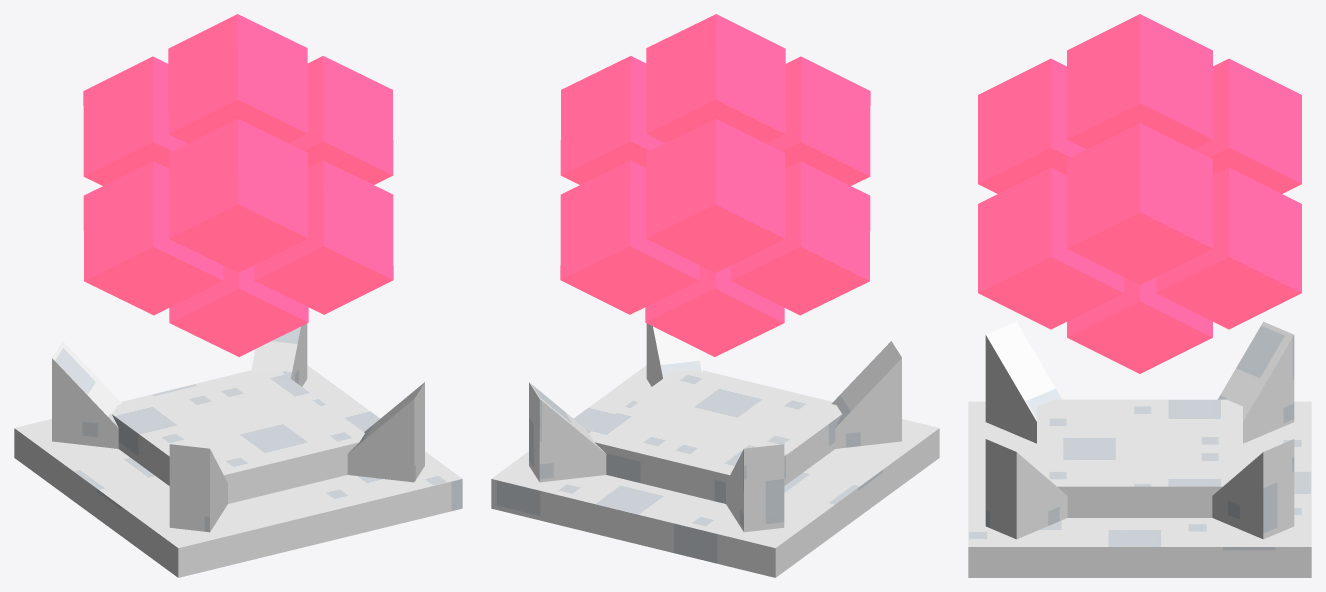
Rendered from C3_TP point_02.FBX.
3 renders of one model, left to right at view 1: azimuth 30°, elevation 25°; view 2: azimuth 150°, elevation 25°; view 3: azimuth 270°, elevation 25°, orthographic. The views are drawn at different scales.
Parts seen in each view (by area): view 1: Box004, Box001, Object003; view 2: Box004, Box001, Object003; view 3: Box004, Box001, Object003.
Boxes of the visible parts, x1=… form: Box004: x1=83, y1=14, x2=393, y2=356; Box001: x1=14, y1=365, x2=462, y2=577; Object003: x1=52, y1=323, x2=424, y2=532; Box004: x1=560, y1=14, x2=870, y2=356; Box001: x1=491, y1=365, x2=939, y2=577; Object003: x1=529, y1=323, x2=901, y2=532; Box004: x1=978, y1=14, x2=1301, y2=373; Box001: x1=968, y1=399, x2=1311, y2=577; Object003: x1=985, y1=321, x2=1294, y2=539.
Size of the model in its own units: 128 by 186 by 118.
1 material, 1 textured.
